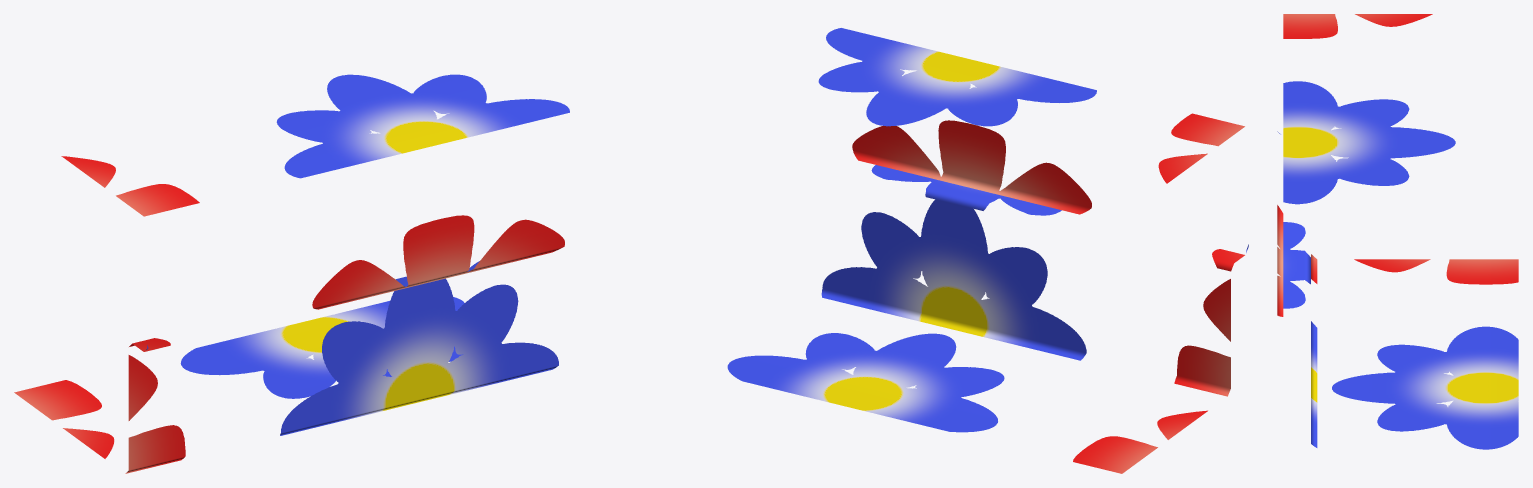
Rendered from SM_SS02_Accent_Cornice.fbx.
3 renders of one model, left to right at view 1: azimuth 30°, elevation 25°; view 2: azimuth 150°, elevation 25°; view 3: azimuth 270°, elevation 25°, orthographic. The views are drawn at different scales.
Visible parts, largest first — view 1: SM_SS02_Accent_Cornice; view 2: SM_SS02_Accent_Cornice; view 3: SM_SS02_Accent_Cornice.
Part boxes in pixels (x1,y1,x2,y2): SM_SS02_Accent_Cornice: (14,74,569,473); SM_SS02_Accent_Cornice: (727,28,1248,473); SM_SS02_Accent_Cornice: (1277,14,1518,449).
Size of the model in its own units: 150 by 80 by 71.39.
